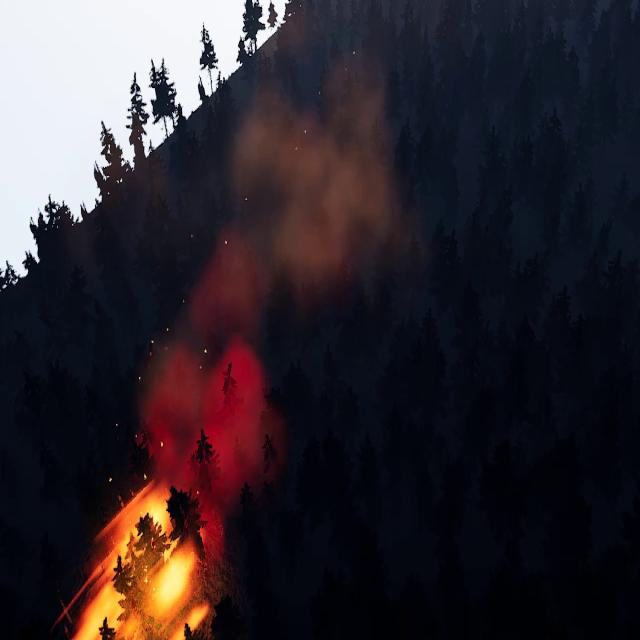fire: (61, 485, 208, 639)
smoke: (192, 14, 401, 332), (135, 330, 286, 572)
